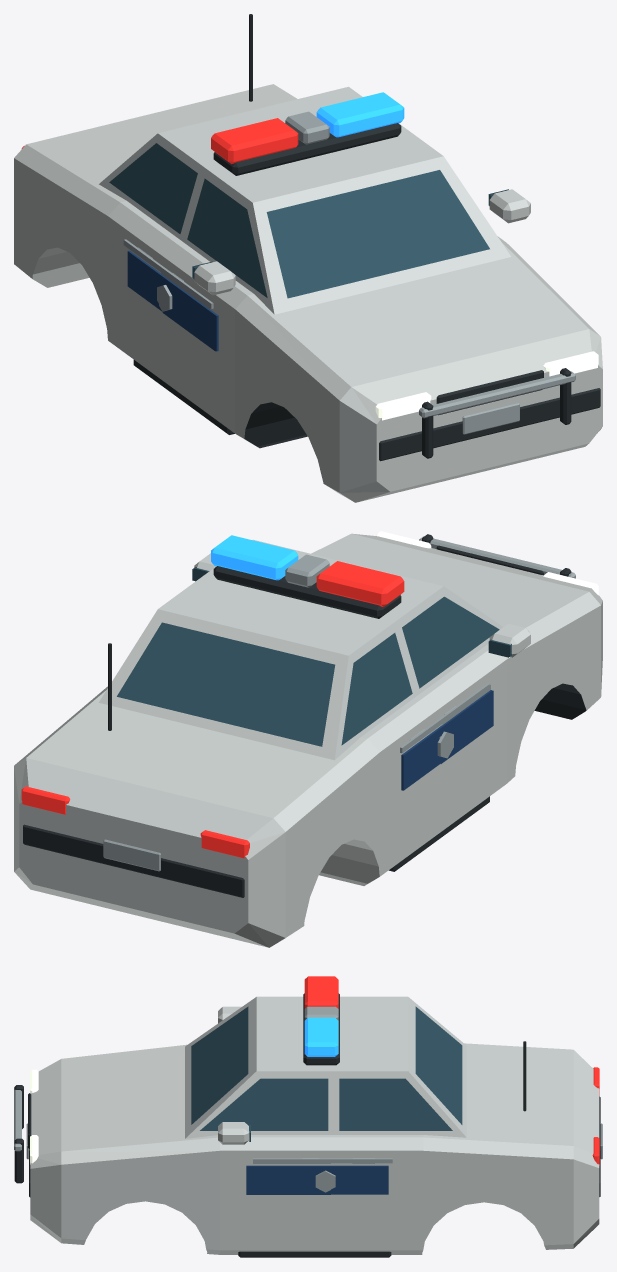
Rendered from police.glb.
3 renders of one model, top to bottom at view 1: azimuth 30°, elevation 25°; view 2: azimuth 150°, elevation 25°; view 3: azimuth 270°, elevation 25°, orthographic. The views are drawn at different scales.
Parts seen in each view (by area): view 1: BODY_Police, DoorLeftSkin, DoorRightSkin; view 2: BODY_Police, DoorLeftSkin; view 3: BODY_Police, DoorRightSkin.
Part boxes in pixels (bbox=[...]): BODY_Police: bbox=[14, 14, 602, 502]; DoorLeftSkin: bbox=[159, 173, 293, 435]; DoorRightSkin: bbox=[488, 189, 530, 256]; BODY_Police: bbox=[14, 531, 602, 947]; DoorLeftSkin: bbox=[398, 588, 530, 829]; BODY_Police: bbox=[14, 976, 602, 1257]; DoorRightSkin: bbox=[195, 1074, 330, 1246].
Bounding box in the file's own units: 2.2 × 1.62 × 4.35.
